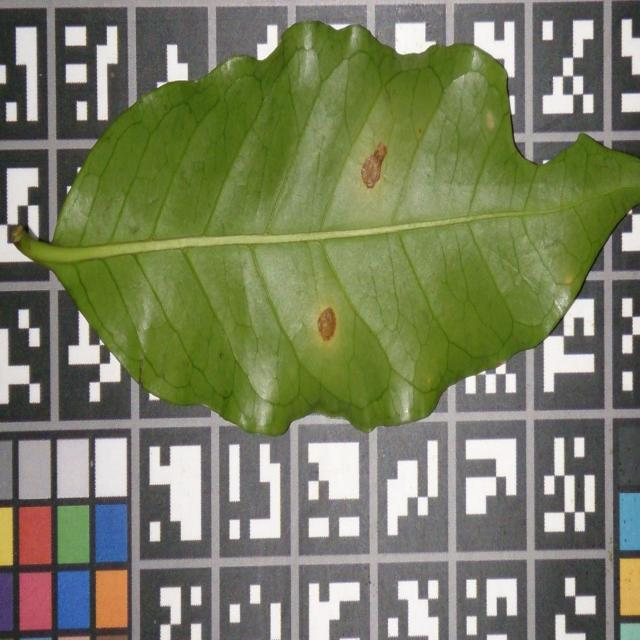Enfermedad-Mancha-de-hierro: (5, 21, 640, 441)
